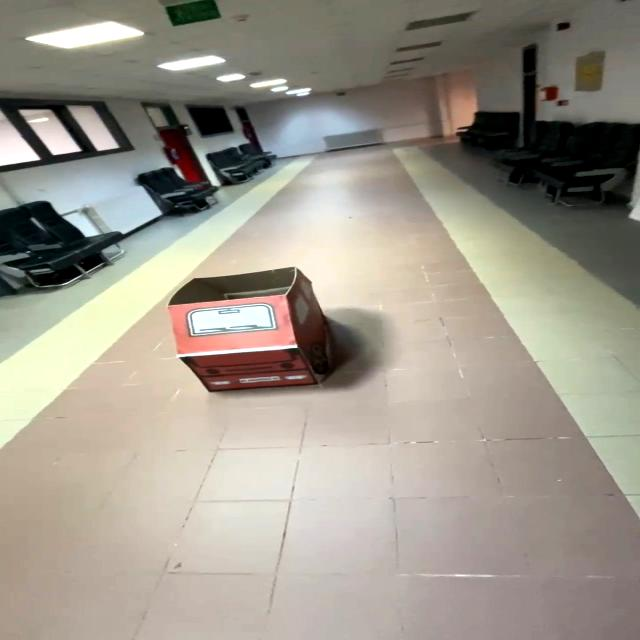red_car: (142, 261, 355, 402)
